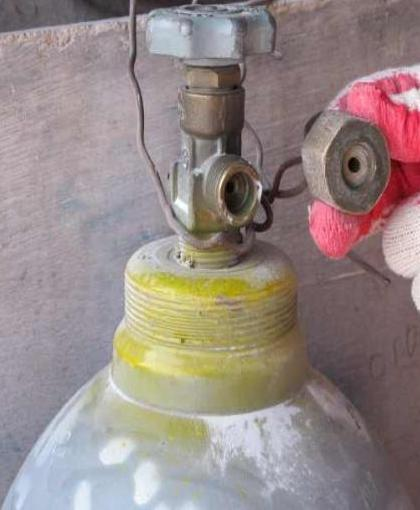cylinder: (1, 1, 420, 510)
